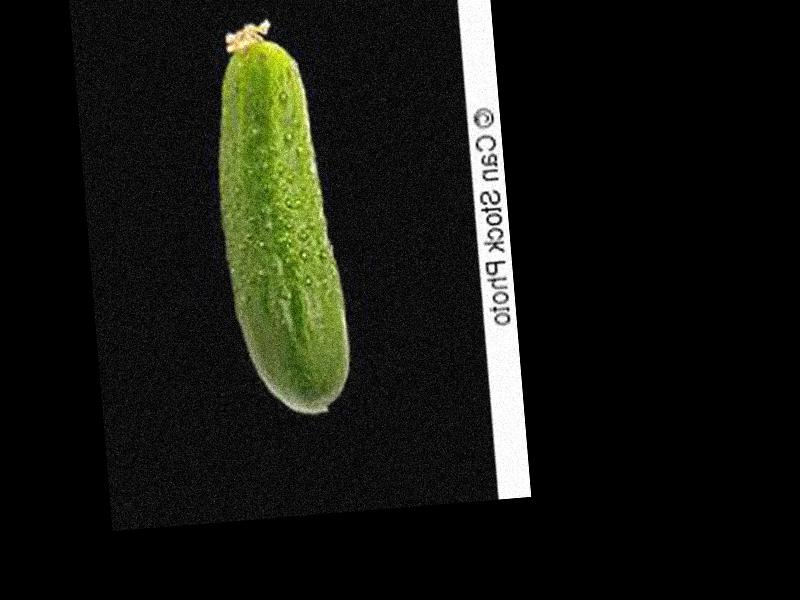Cucumber: (205, 14, 353, 420)
